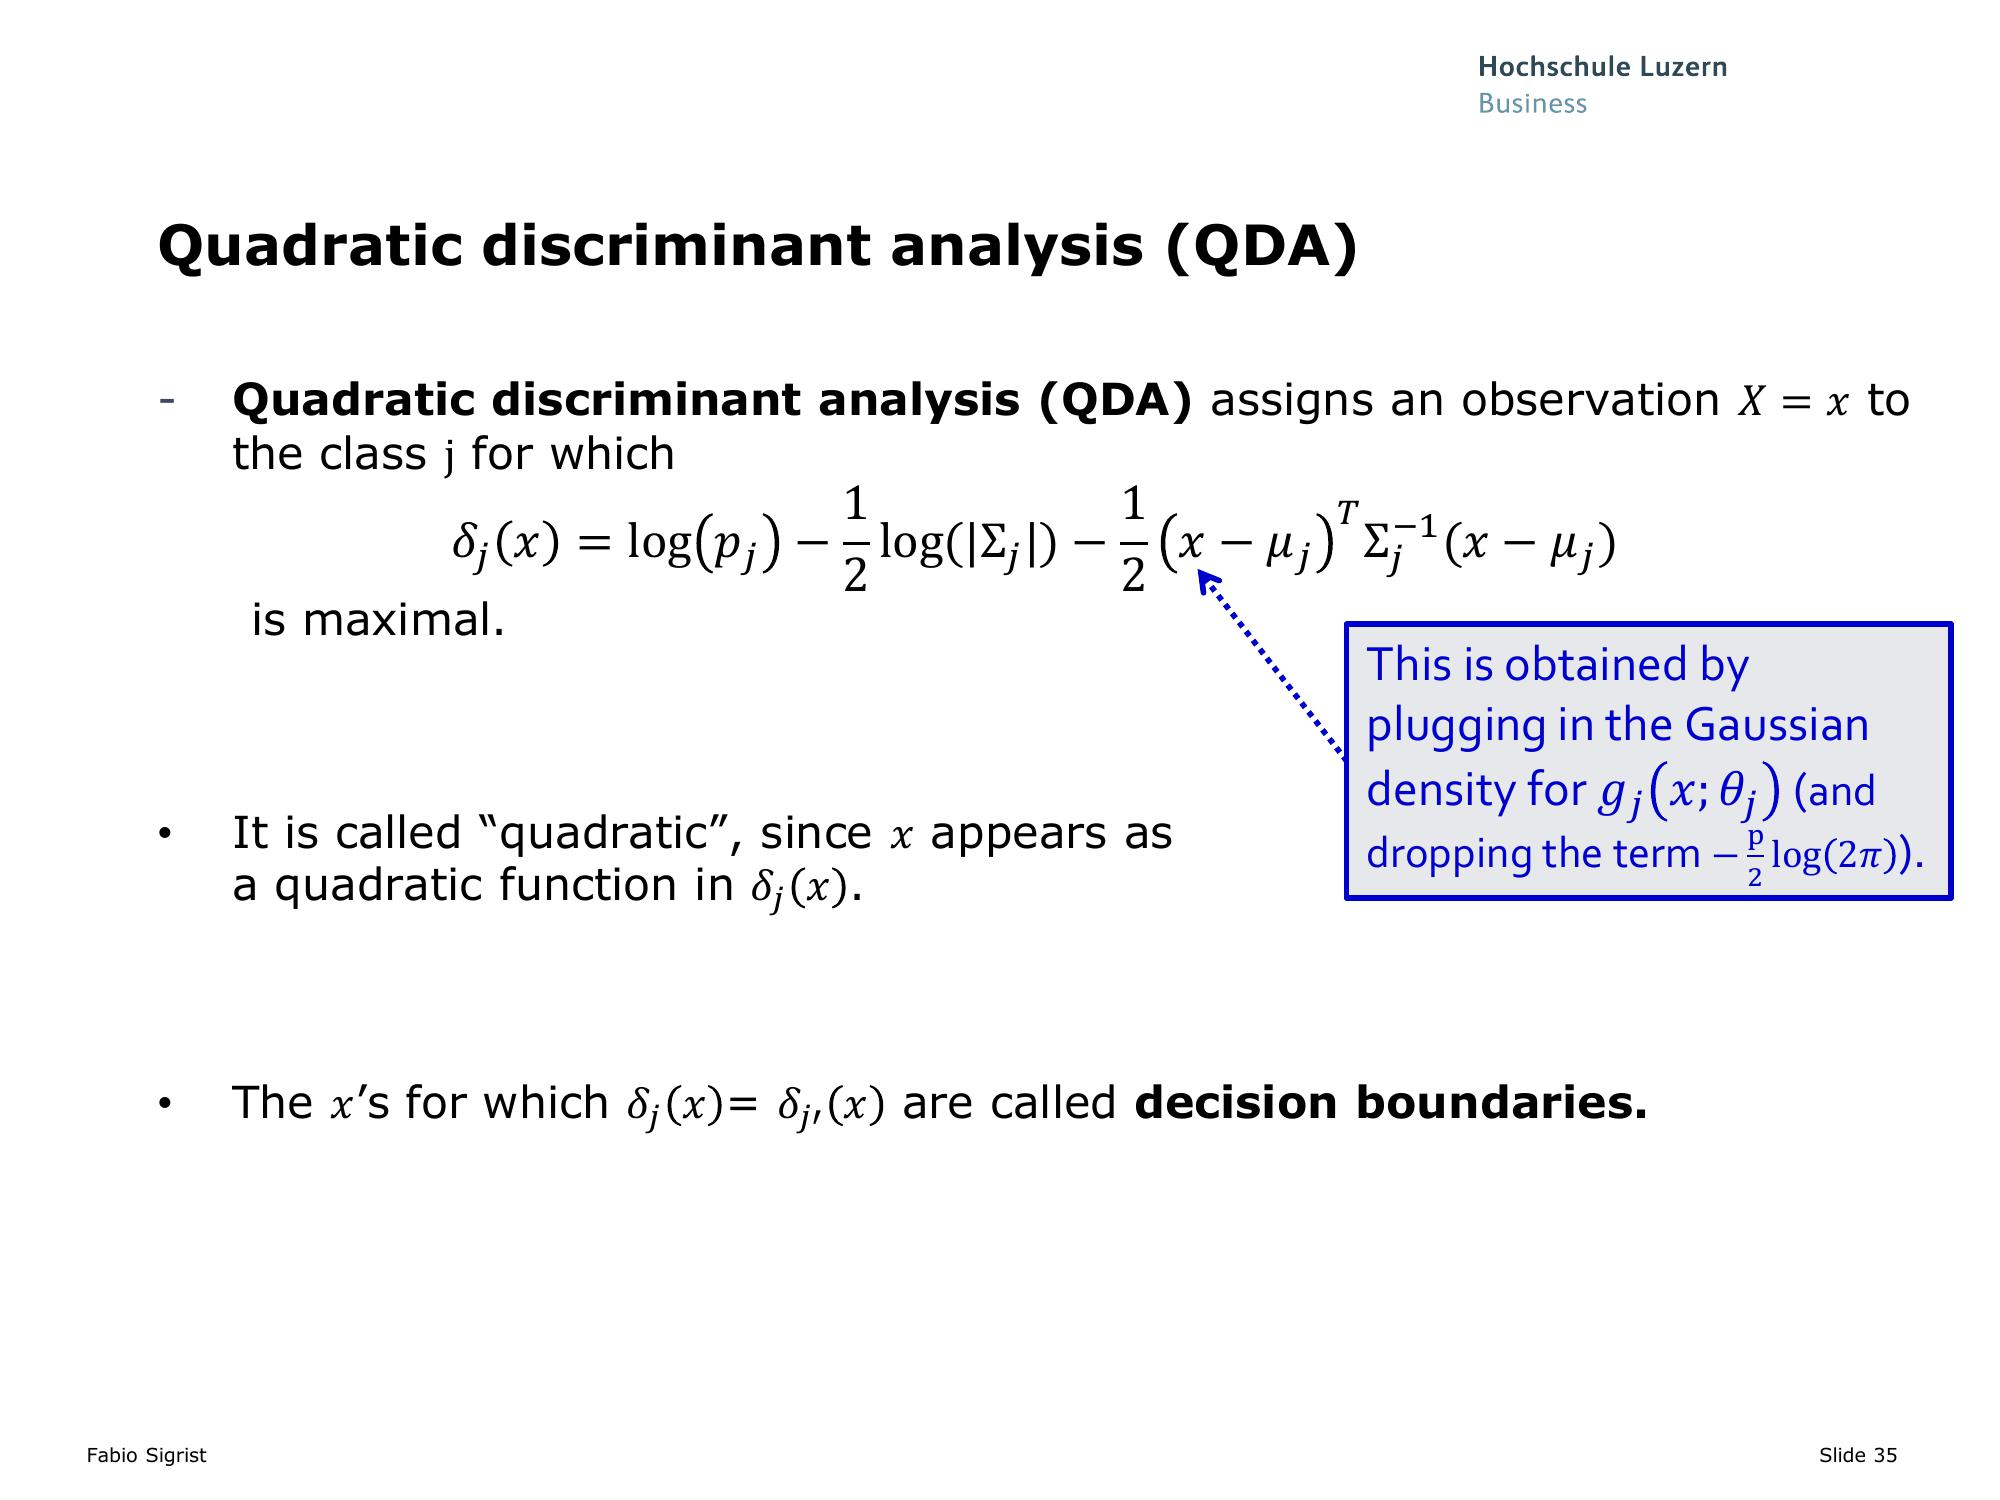Title: (132, 199, 1378, 299)
